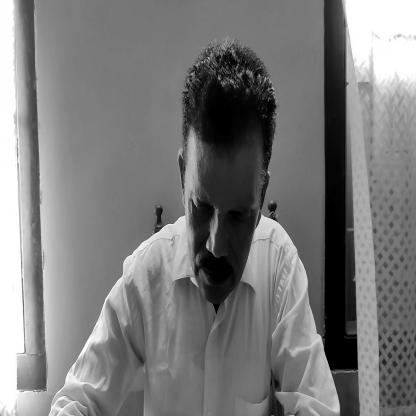Normal: (183, 42, 270, 305)
